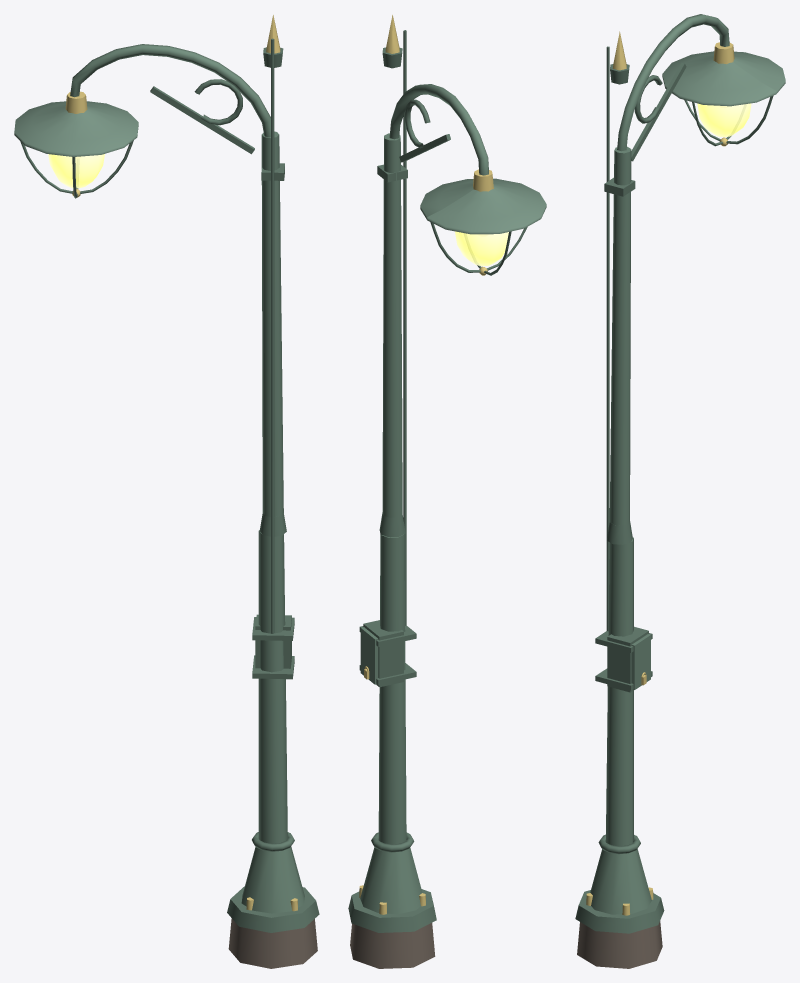
The model's file is south_indian_village_street_lamp.glb.
3 views of the same model, side by side, from view 1: azimuth 30°, elevation 25°; view 2: azimuth 150°, elevation 25°; view 3: azimuth 270°, elevation 25° (orthographic).
Visible parts, largest first — view 1: Tubular_Iron_Shaft, Lantern_Luminaire_Assembly, Cast_Iron_Plinth_Base, Street_Lamp_Subgrade_Anchor_Plug, Gooseneck_Arm_And_Bracket, Forged_Scrollwork_Brace, Panchayat_Fuse_Terminal_Box; view 2: Tubular_Iron_Shaft, Lantern_Luminaire_Assembly, Cast_Iron_Plinth_Base, Street_Lamp_Subgrade_Anchor_Plug, Panchayat_Fuse_Terminal_Box, Gooseneck_Arm_And_Bracket, Forged_Scrollwork_Brace, Pole_Apex_Finial; view 3: Tubular_Iron_Shaft, Lantern_Luminaire_Assembly, Cast_Iron_Plinth_Base, Street_Lamp_Subgrade_Anchor_Plug, Panchayat_Fuse_Terminal_Box, Gooseneck_Arm_And_Bracket, Forged_Scrollwork_Brace, Pole_Apex_Finial.
Boxes of the visible parts, x1=… form: Tubular_Iron_Shaft: x1=258, y1=38, x2=287, y2=843; Lantern_Luminaire_Assembly: x1=14, y1=91, x2=138, y2=198; Cast_Iron_Plinth_Base: x1=227, y1=832, x2=319, y2=932; Street_Lamp_Subgrade_Anchor_Plug: x1=228, y1=918, x2=317, y2=968; Gooseneck_Arm_And_Bracket: x1=70, y1=44, x2=270, y2=137; Forged_Scrollwork_Brace: x1=150, y1=79, x2=284, y2=180; Panchayat_Fuse_Terminal_Box: x1=252, y1=614, x2=294, y2=679; Tubular_Iron_Shaft: x1=378, y1=30, x2=406, y2=844; Lantern_Luminaire_Assembly: x1=420, y1=169, x2=546, y2=275; Cast_Iron_Plinth_Base: x1=348, y1=832, x2=436, y2=932; Street_Lamp_Subgrade_Anchor_Plug: x1=350, y1=923, x2=435, y2=968; Panchayat_Fuse_Terminal_Box: x1=359, y1=620, x2=416, y2=687; Gooseneck_Arm_And_Bracket: x1=389, y1=84, x2=488, y2=175; Forged_Scrollwork_Brace: x1=377, y1=99, x2=450, y2=182; Pole_Apex_Finial: x1=382, y1=15, x2=402, y2=68; Tubular_Iron_Shaft: x1=605, y1=46, x2=633, y2=846; Lantern_Luminaire_Assembly: x1=662, y1=42, x2=785, y2=146; Cast_Iron_Plinth_Base: x1=575, y1=834, x2=664, y2=933; Street_Lamp_Subgrade_Anchor_Plug: x1=577, y1=921, x2=662, y2=968; Panchayat_Fuse_Terminal_Box: x1=595, y1=626, x2=652, y2=692; Gooseneck_Arm_And_Bracket: x1=617, y1=14, x2=729, y2=151; Forged_Scrollwork_Brace: x1=604, y1=62, x2=686, y2=196; Pole_Apex_Finial: x1=610, y1=31, x2=629, y2=84.
Bounding box in the file's own units: 1.09 × 4.09 × 0.8476.
